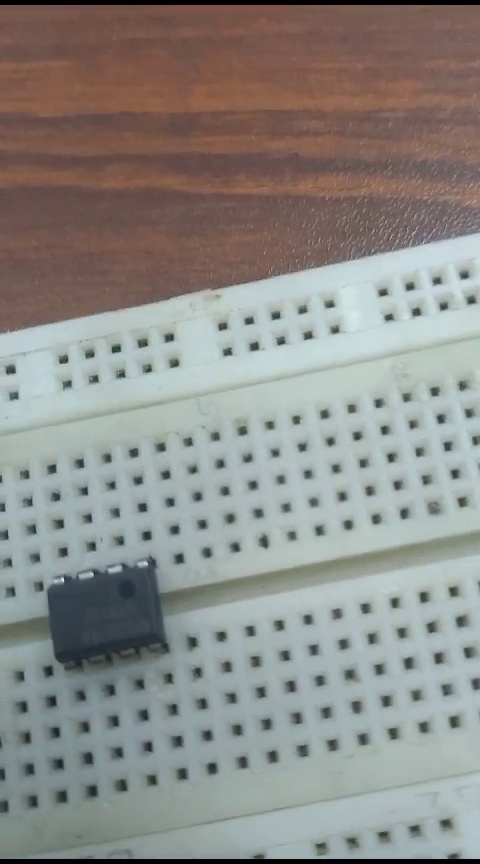IC: (40, 547, 171, 668)
